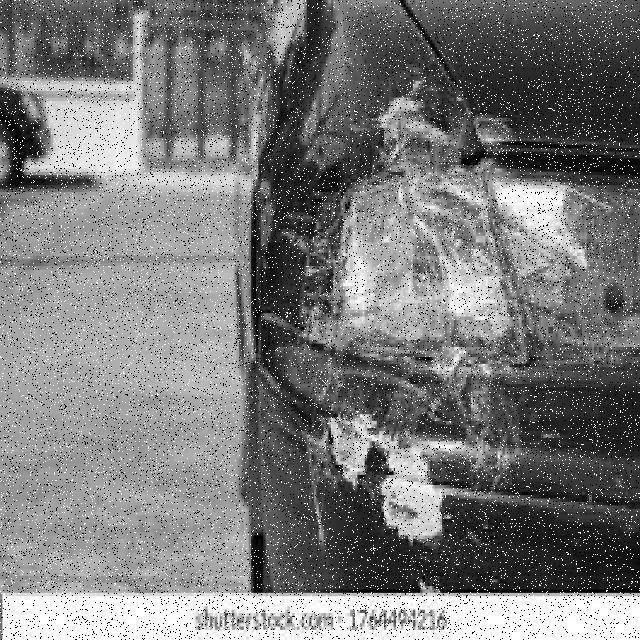Headlight-damage: (262, 91, 639, 401)
front-bumper-dent: (214, 310, 639, 603)
